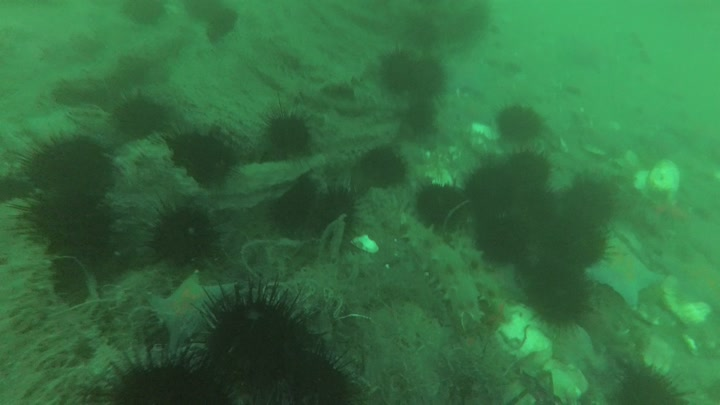echinus: (183, 275, 329, 392), (89, 336, 240, 405), (7, 189, 129, 260), (236, 341, 363, 405), (15, 134, 118, 206), (141, 189, 232, 270), (516, 255, 599, 339), (150, 125, 249, 189), (557, 167, 622, 238), (543, 216, 620, 274), (309, 182, 365, 253), (474, 208, 539, 269), (611, 361, 697, 405), (108, 90, 172, 145), (267, 176, 322, 239), (414, 176, 472, 235), (262, 100, 317, 162), (464, 160, 518, 218), (508, 182, 565, 232), (353, 144, 412, 192), (500, 144, 558, 192), (404, 57, 453, 105), (378, 43, 420, 98), (494, 102, 548, 142), (401, 96, 443, 141), (68, 84, 124, 115), (104, 68, 152, 98), (206, 8, 240, 48), (121, 1, 168, 29), (185, 1, 225, 24)
holothurian: (399, 211, 486, 324), (449, 226, 505, 310)
starfish: (150, 268, 240, 352), (583, 224, 660, 312), (24, 108, 88, 149)
